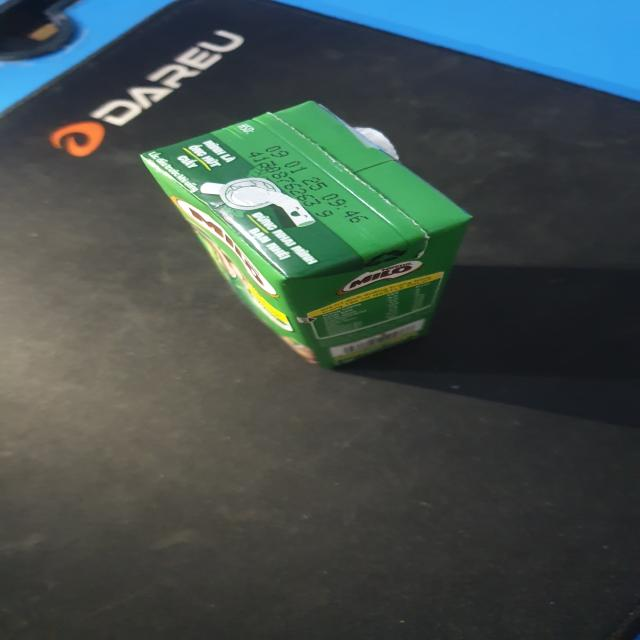Milo: (134, 98, 480, 375)
